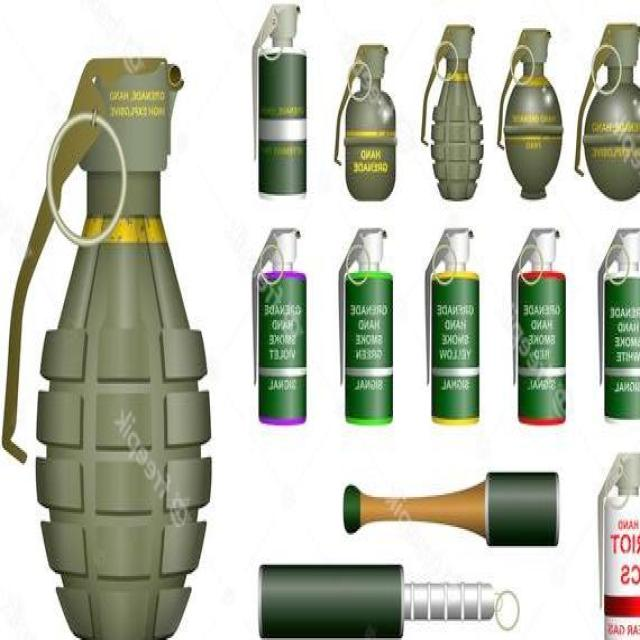grenade: (2, 65, 216, 639), (251, 221, 310, 436), (497, 28, 565, 205), (426, 225, 484, 432), (251, 5, 311, 197), (576, 26, 640, 206), (514, 225, 569, 432), (424, 28, 486, 207), (339, 227, 394, 424), (336, 44, 400, 206), (595, 223, 640, 427), (599, 449, 640, 640)
